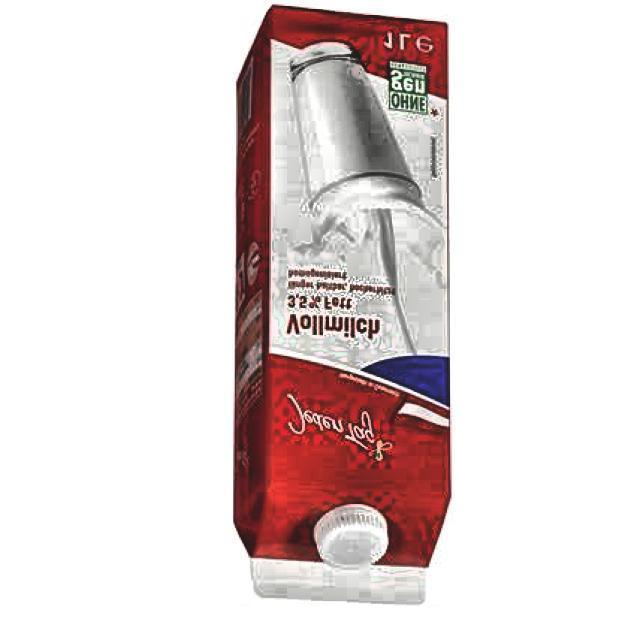cardboard: (230, 6, 452, 606)
